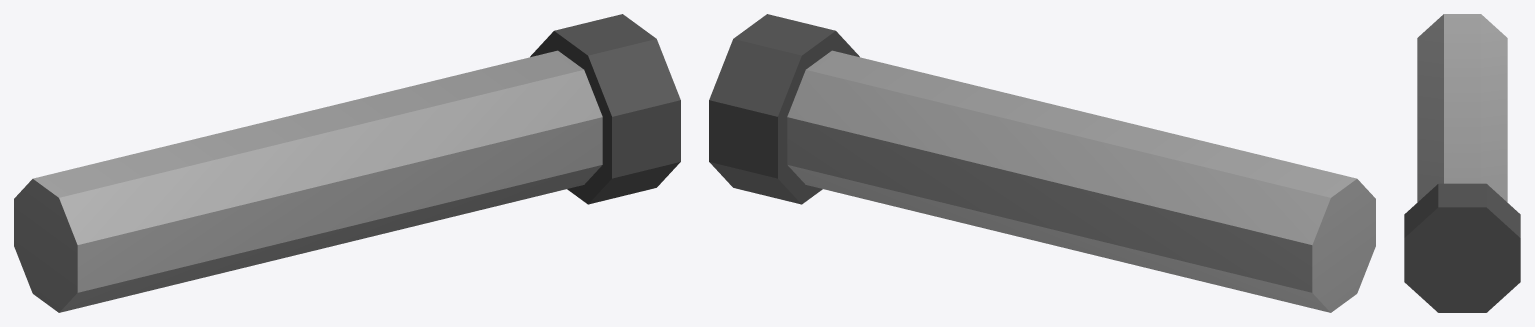
Rendered from SMG5_02_2.fbx.
3 views of the same model, side by side, from view 1: azimuth 30°, elevation 25°; view 2: azimuth 150°, elevation 25°; view 3: azimuth 270°, elevation 25° (orthographic). The views are drawn at different scales.
Parts seen in each view (by area): view 1: SMG5_02_2; view 2: SMG5_02_2; view 3: SMG5_02_2.
Part boxes in pixels (x1=…): SMG5_02_2: x1=14, y1=14, x2=680, y2=312; SMG5_02_2: x1=709, y1=14, x2=1375, y2=312; SMG5_02_2: x1=1404, y1=14, x2=1520, y2=312.
Bounding box in the file's own units: 0.3244 × 0.0777 × 0.0777.
